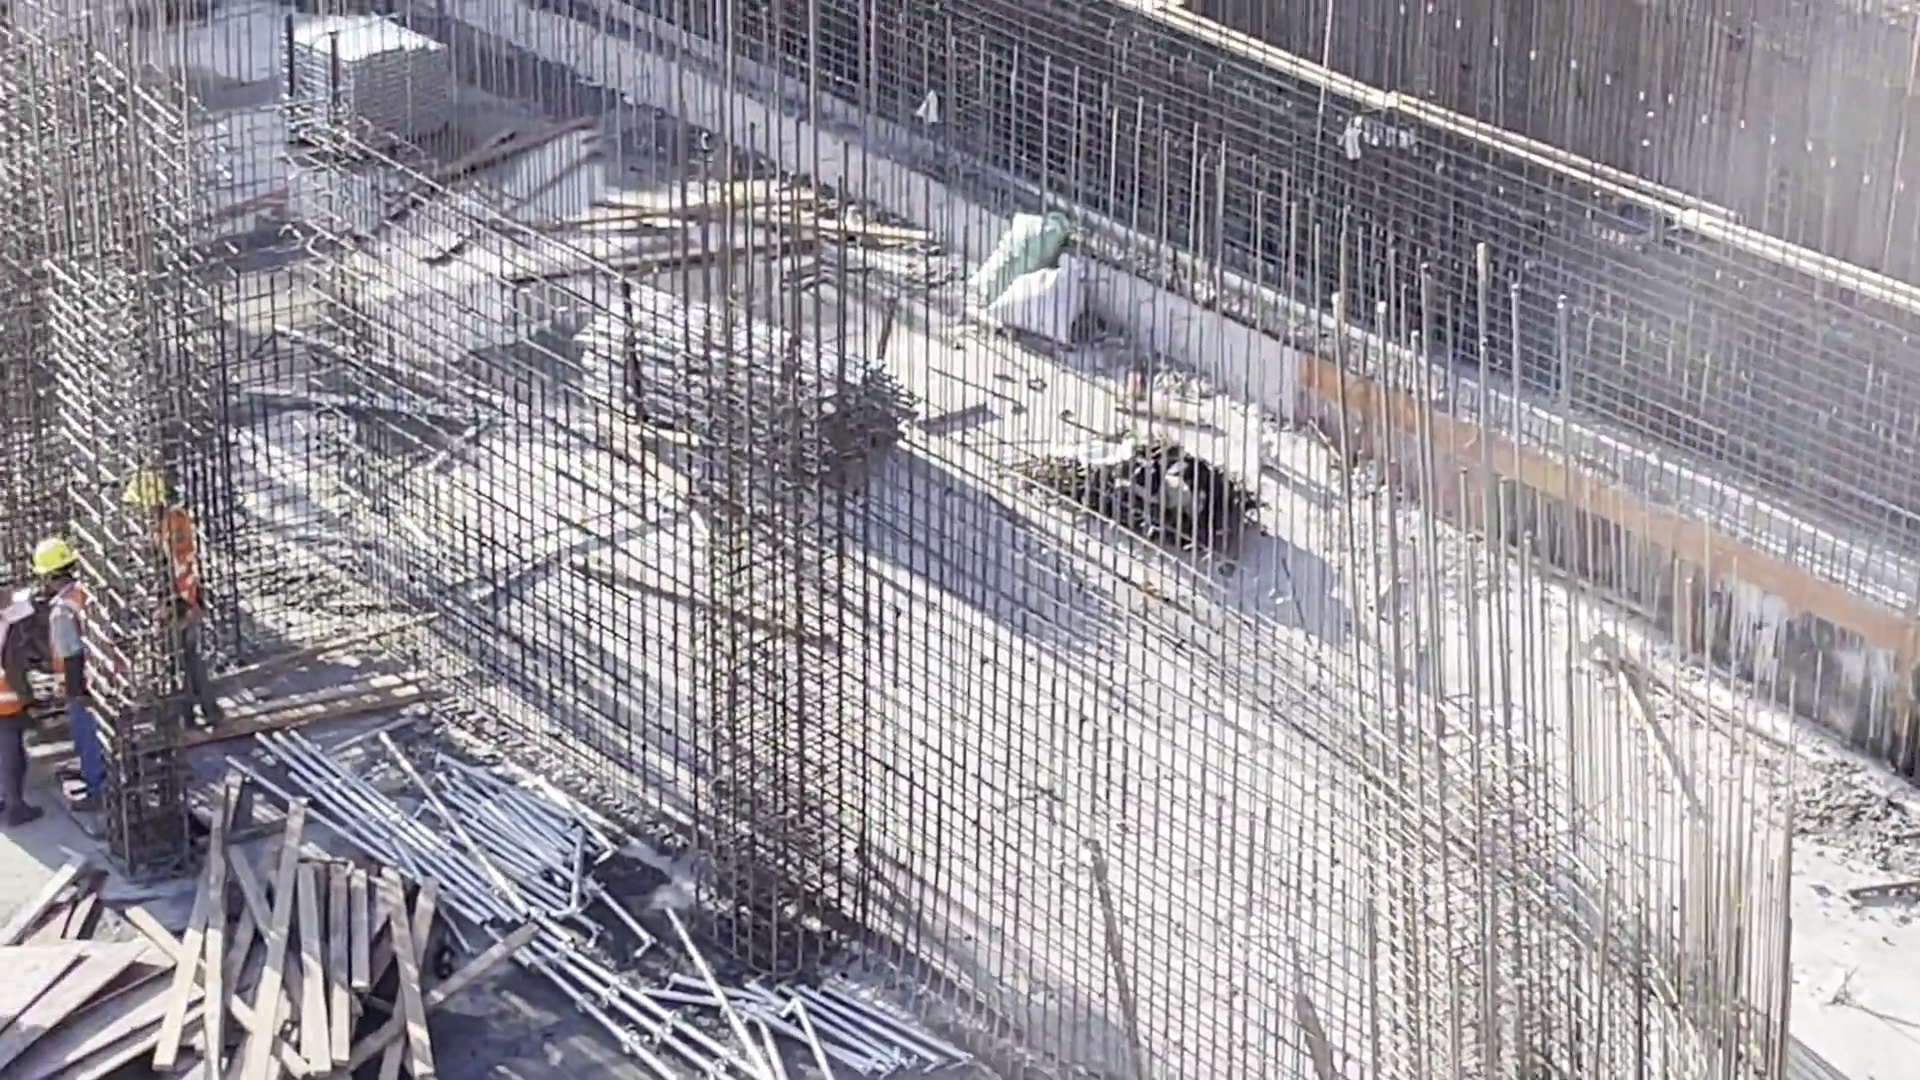helmet: (31, 532, 88, 580)
person: (119, 462, 232, 738), (27, 532, 106, 819)
